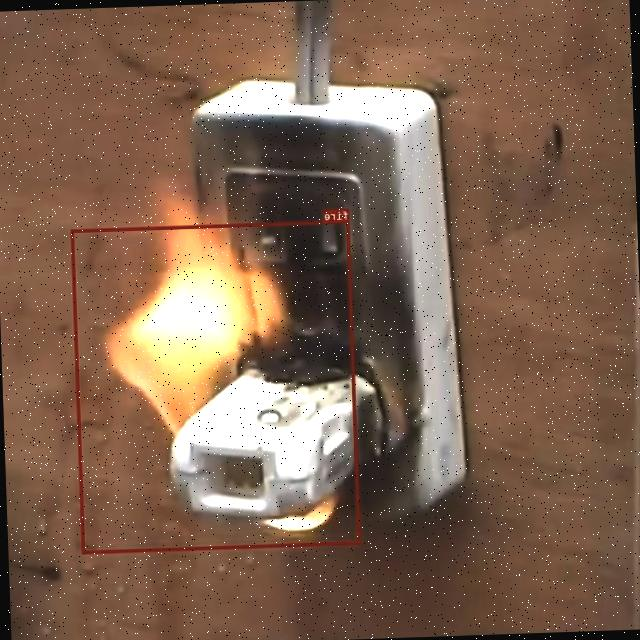fire: (71, 218, 360, 553)
